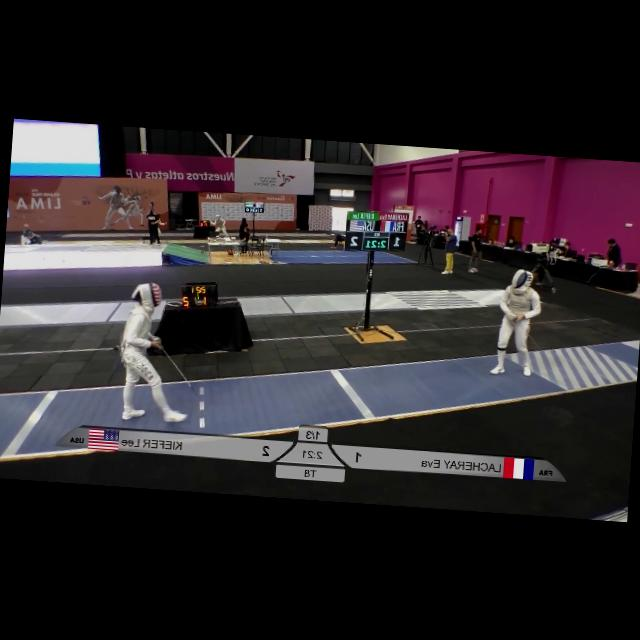blade: (151, 337, 213, 410), (508, 315, 545, 354)
